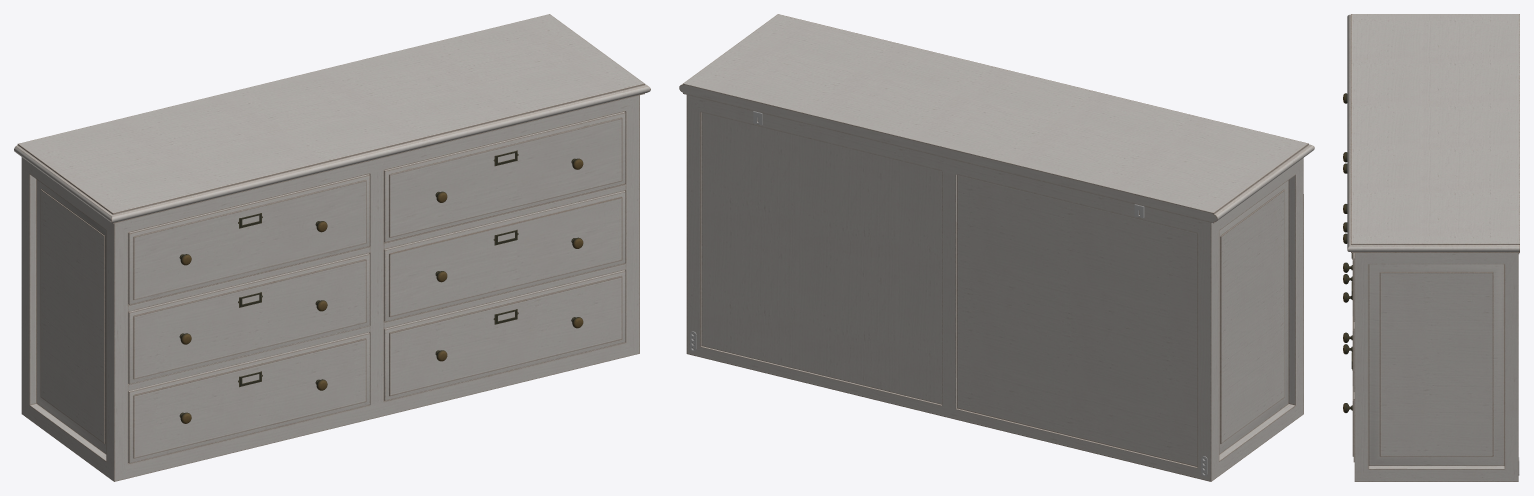
3 renders of one model, left to right at view 1: azimuth 30°, elevation 25°; view 2: azimuth 150°, elevation 25°; view 3: azimuth 270°, elevation 25°, orthographic. The views are drawn at different scales.
Parts seen in each view (by area): view 1: Object_4, Object_2; view 2: Object_4; view 3: Object_4, Object_2.
Boxes of the visible parts, left/top/right/bottom form: Object_4: left=14, top=14, right=650, bottom=481; Object_2: left=179, top=150, right=583, bottom=423; Object_4: left=679, top=14, right=1314, bottom=481; Object_4: left=1347, top=14, right=1519, bottom=481; Object_2: left=1343, top=93, right=1352, bottom=412.
Bounding box in the file's own units: 154 × 74 × 49.5.
Materials: 3 (2 with a texture image).
